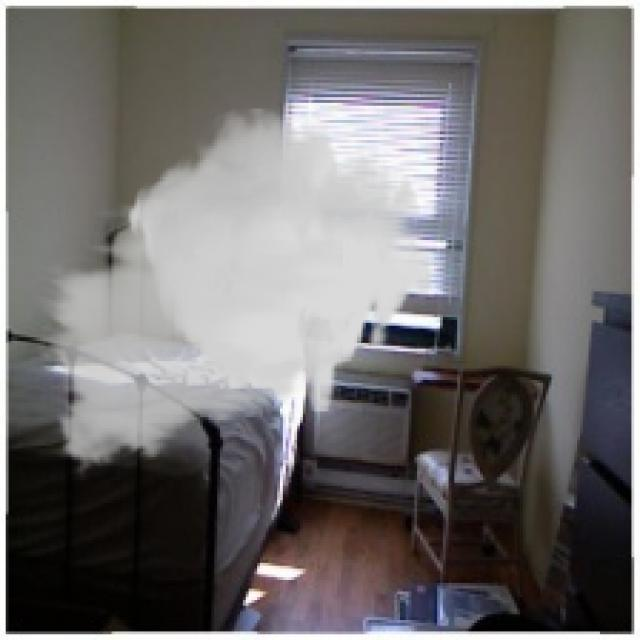Smoke: (34, 108, 434, 483)
